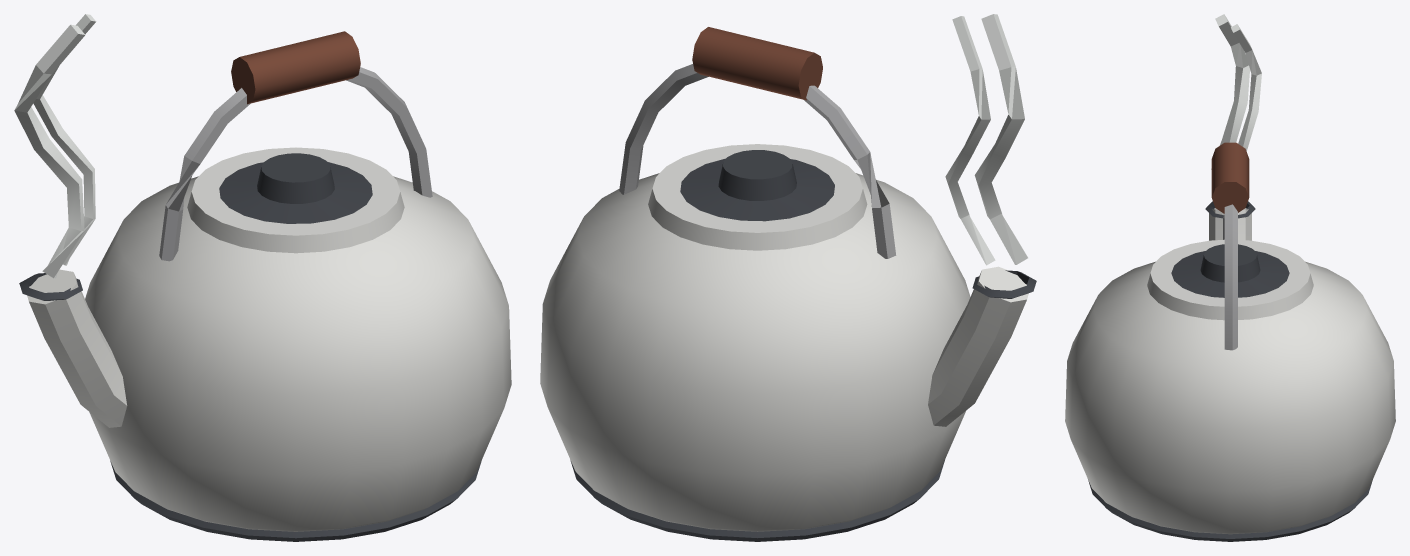
Rendered from cook_hot_water.glb.
3 renders of one model, left to right at view 1: azimuth 30°, elevation 25°; view 2: azimuth 150°, elevation 25°; view 3: azimuth 270°, elevation 25°, orthographic. The views are drawn at different scales.
Visible parts, largest first — view 1: body; view 2: body; view 3: body.
Boxes of the visible parts, box(x1,y1,x2,y2) form: body: box(14, 14, 511, 541); body: box(540, 14, 1036, 541); body: box(1065, 14, 1395, 541).
Size of the model in its own units: 0.0611 by 0.0642 by 0.0496.
